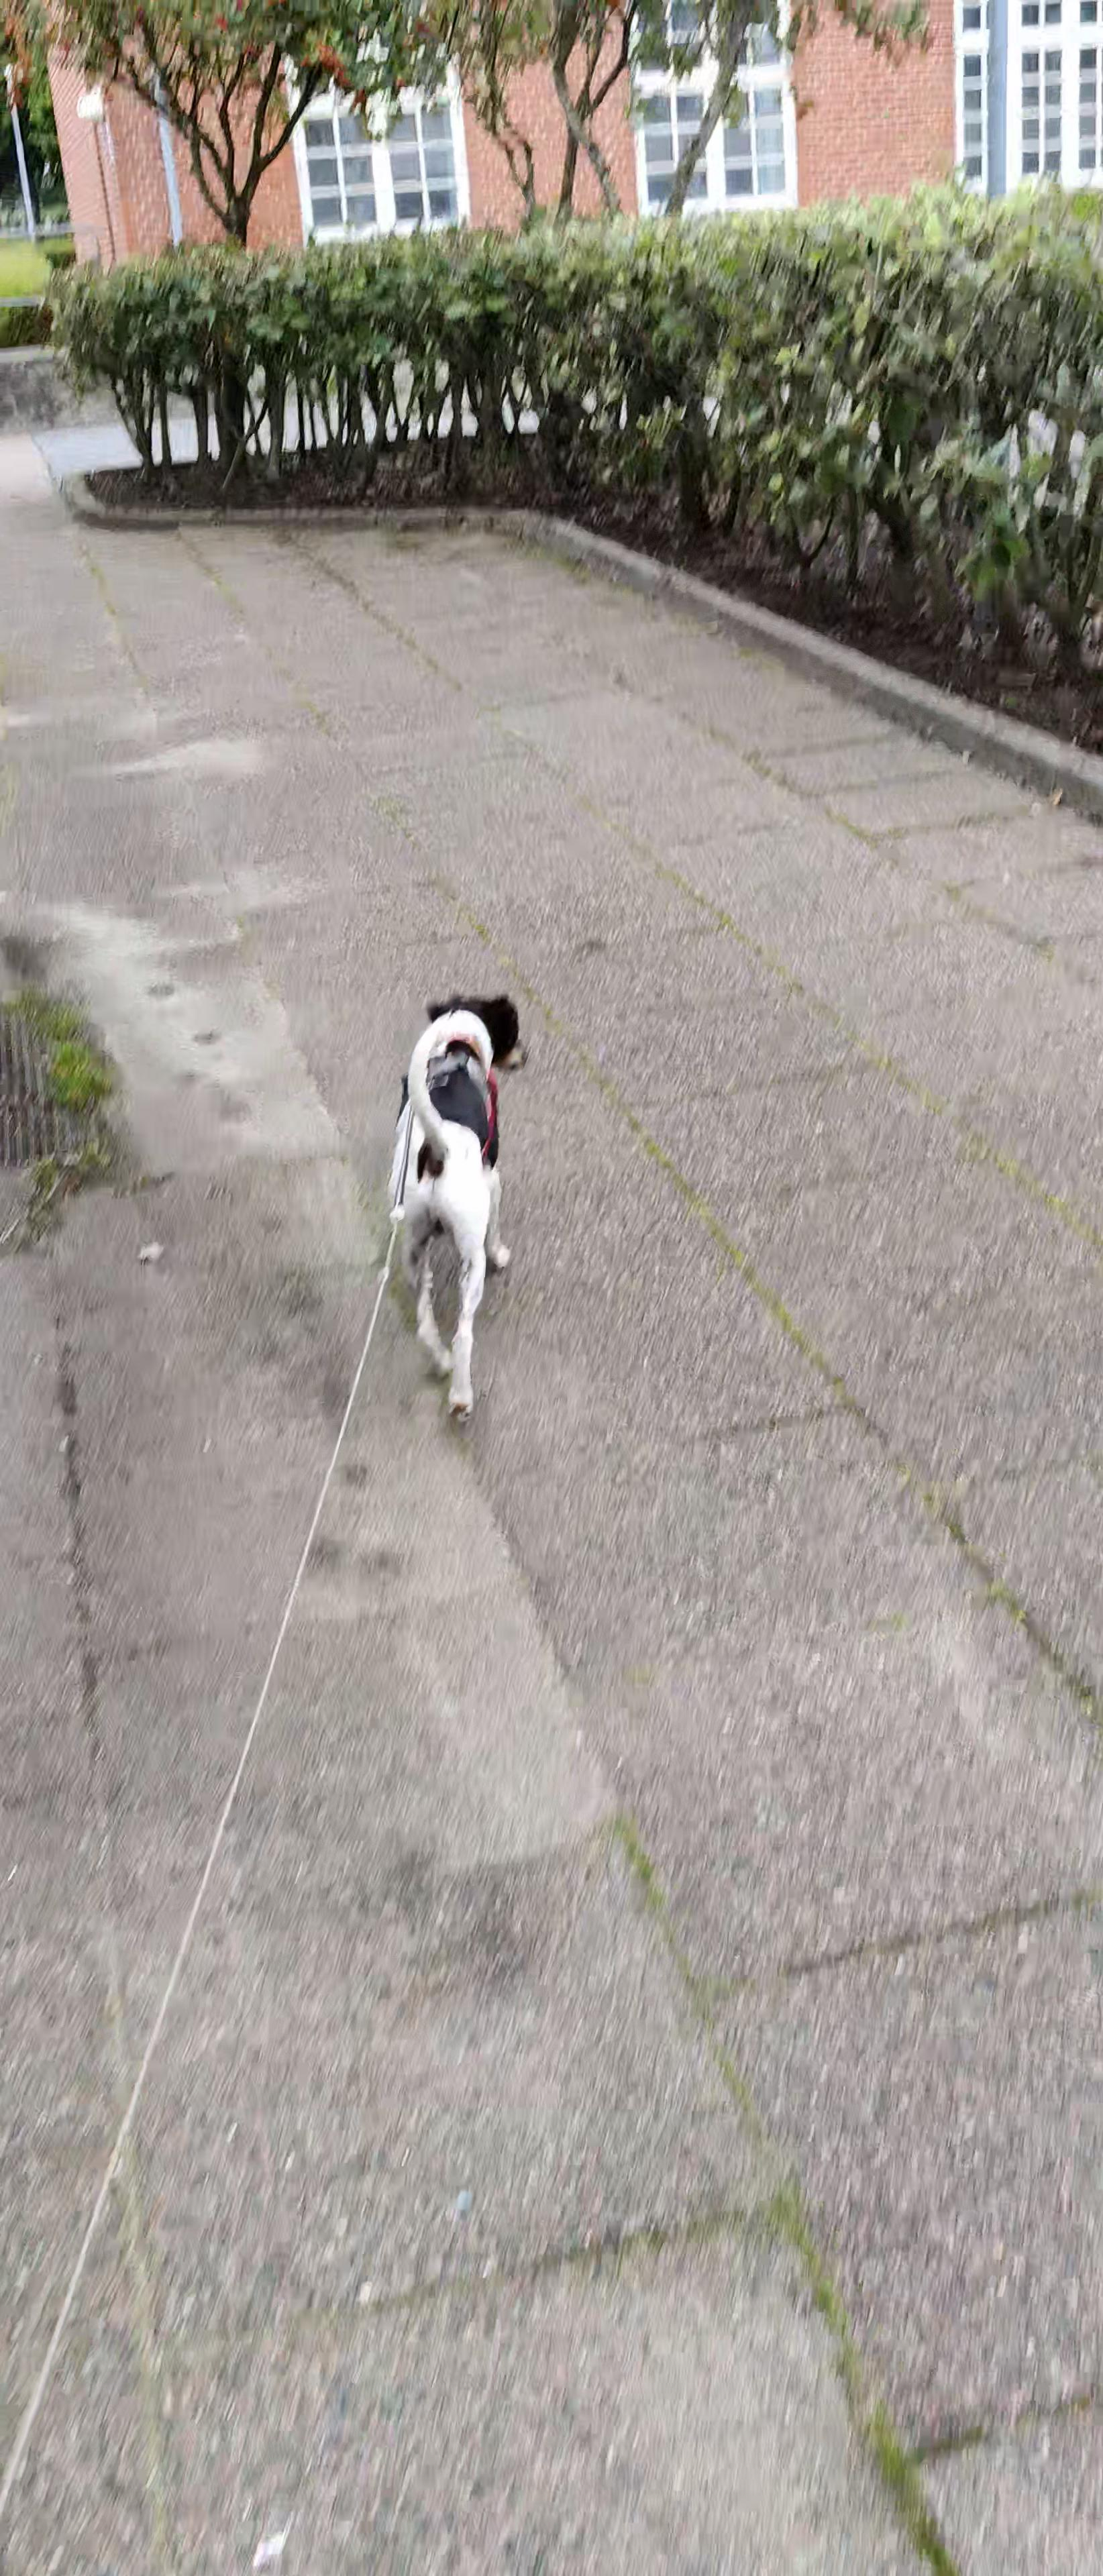Dog: (350, 945, 551, 1426)
